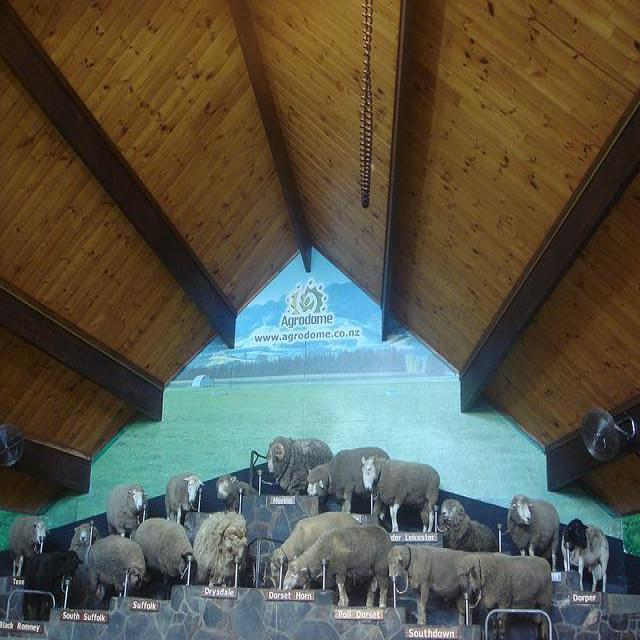Sheep: (17, 302, 639, 638), (282, 524, 394, 608), (387, 542, 478, 626), (307, 446, 393, 522), (364, 458, 439, 534), (88, 534, 153, 610), (508, 491, 561, 573), (191, 514, 245, 590), (134, 516, 194, 583), (267, 437, 333, 496), (437, 500, 499, 553), (10, 516, 50, 579), (106, 483, 149, 540), (165, 473, 205, 523)
